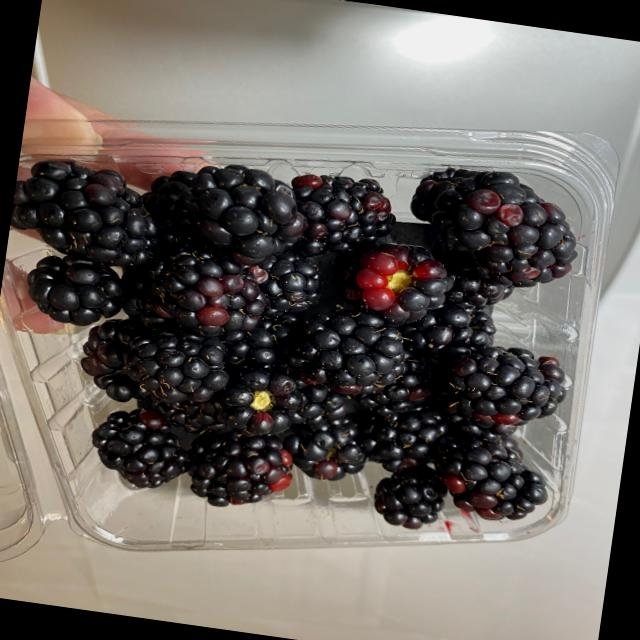blackberries: (18, 126, 594, 574)
